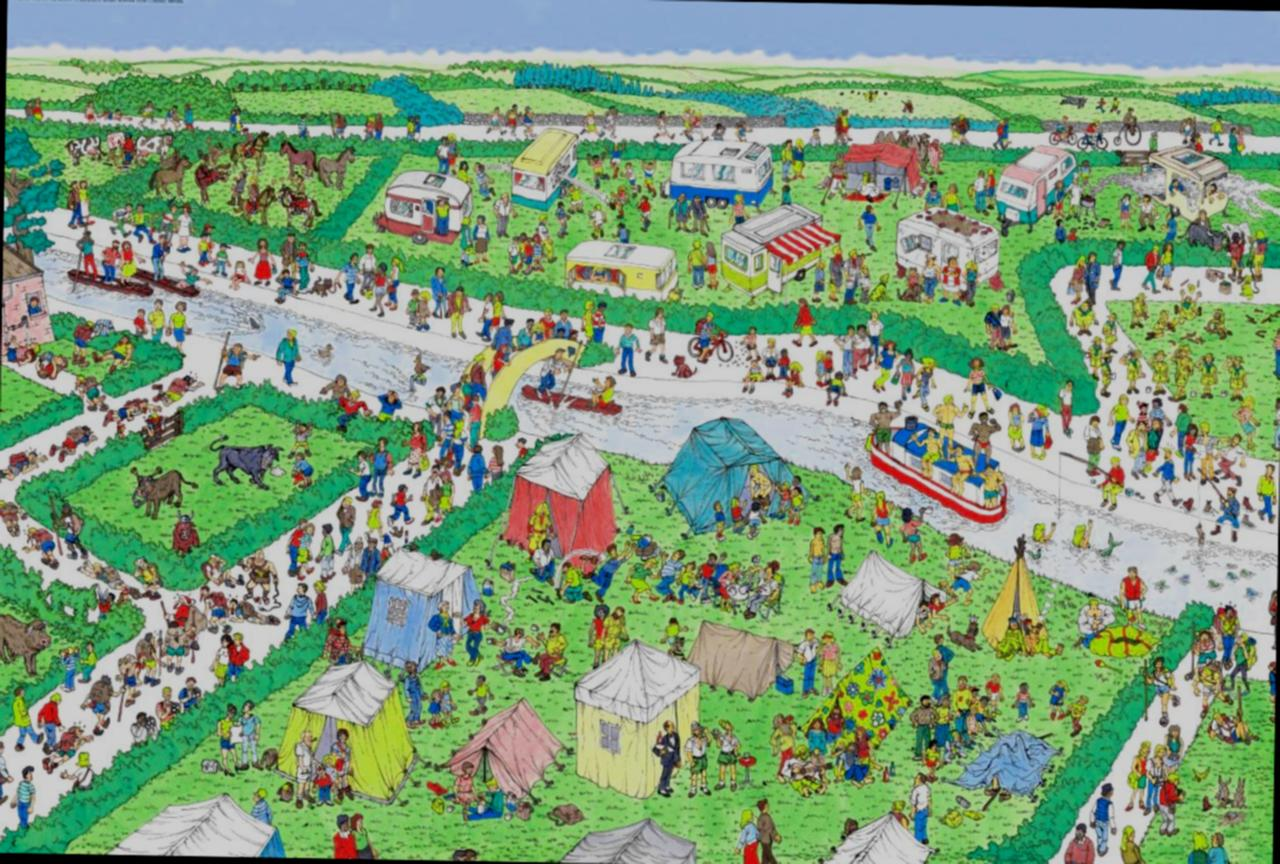waldo: (334, 618, 348, 635)
